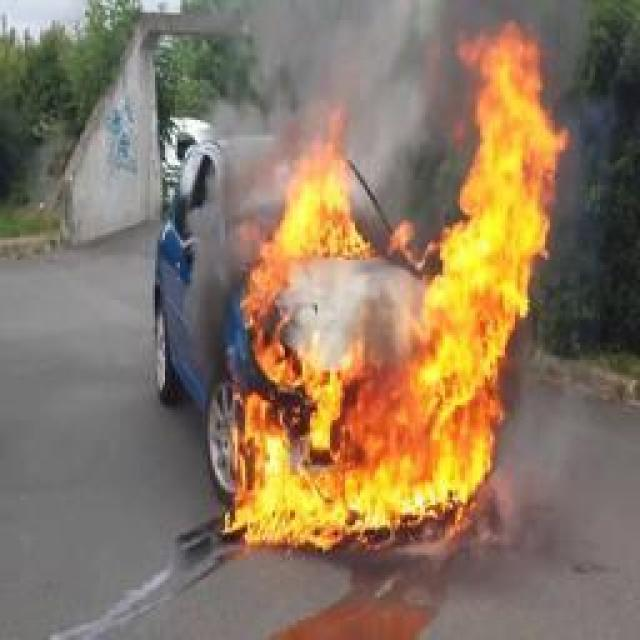Fire: (216, 18, 569, 550)
